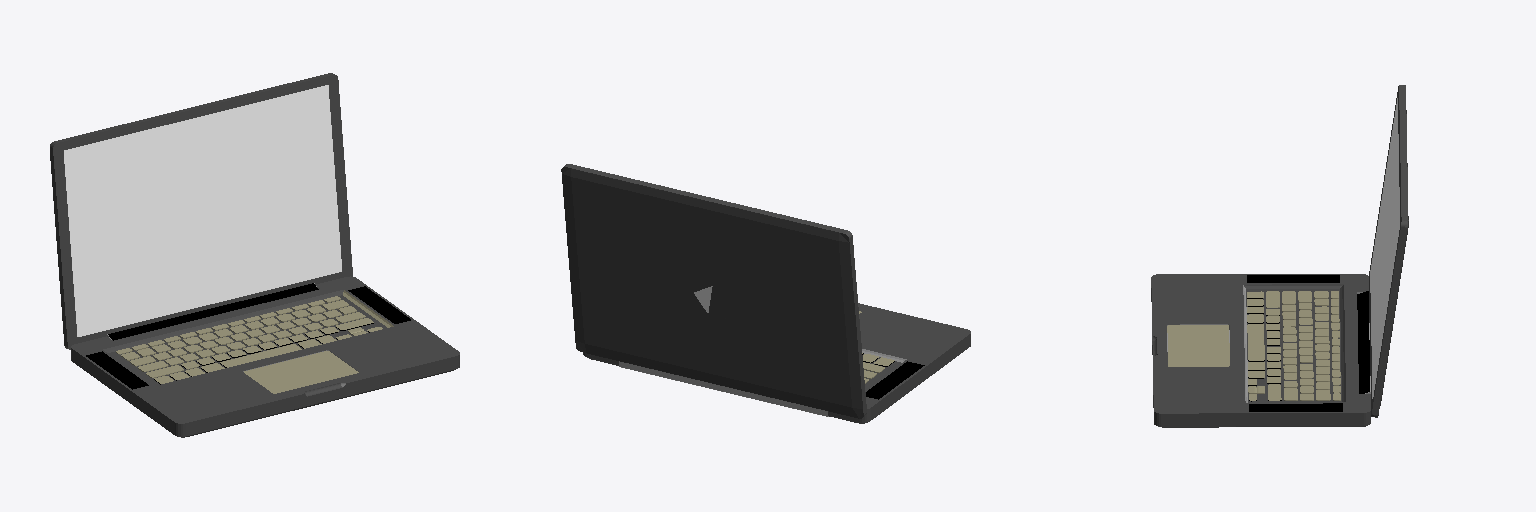
3 renders of one model, left to right at view 1: azimuth 30°, elevation 25°; view 2: azimuth 150°, elevation 25°; view 3: azimuth 270°, elevation 25°, orthographic.
Parts seen in each view (by area): view 1: Mesh; view 2: Mesh; view 3: Mesh.
Boxes of the visible parts, x1,y1,x2,y2 form: Mesh: [50, 73, 459, 437]; Mesh: [561, 164, 970, 423]; Mesh: [1151, 85, 1408, 427].
Bounding box in the file's own units: 0.6217 × 0.426 × 0.4816.
Materials: 6 (3 with a texture image).